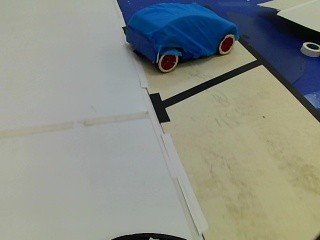car: (119, 0, 242, 74)
